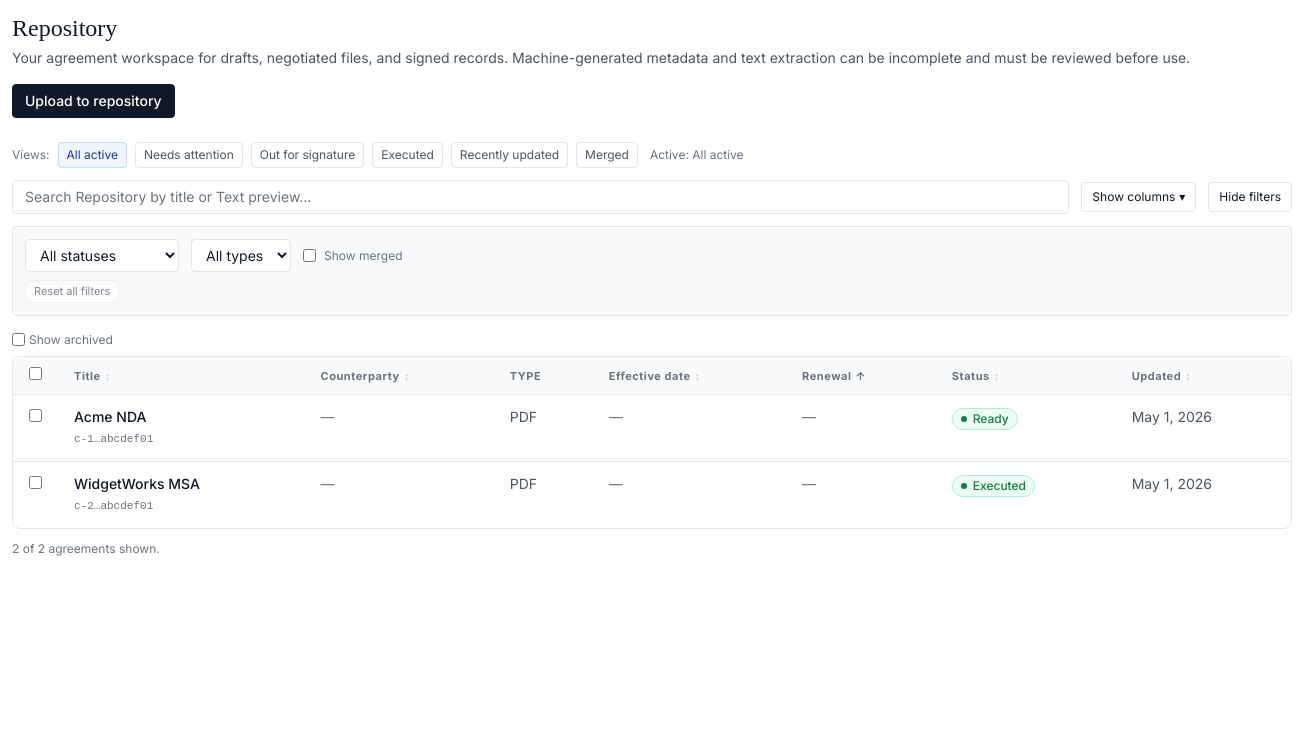
Scenario: ContractsPage (Repository list) › filters the visible list by the selected status
The image size is (1304, 732).
Step 1. Select "Executed" in the dropdown with test id "repository-filter-status" → {"x": 102, "y": 256}, box [25,239,179,272]
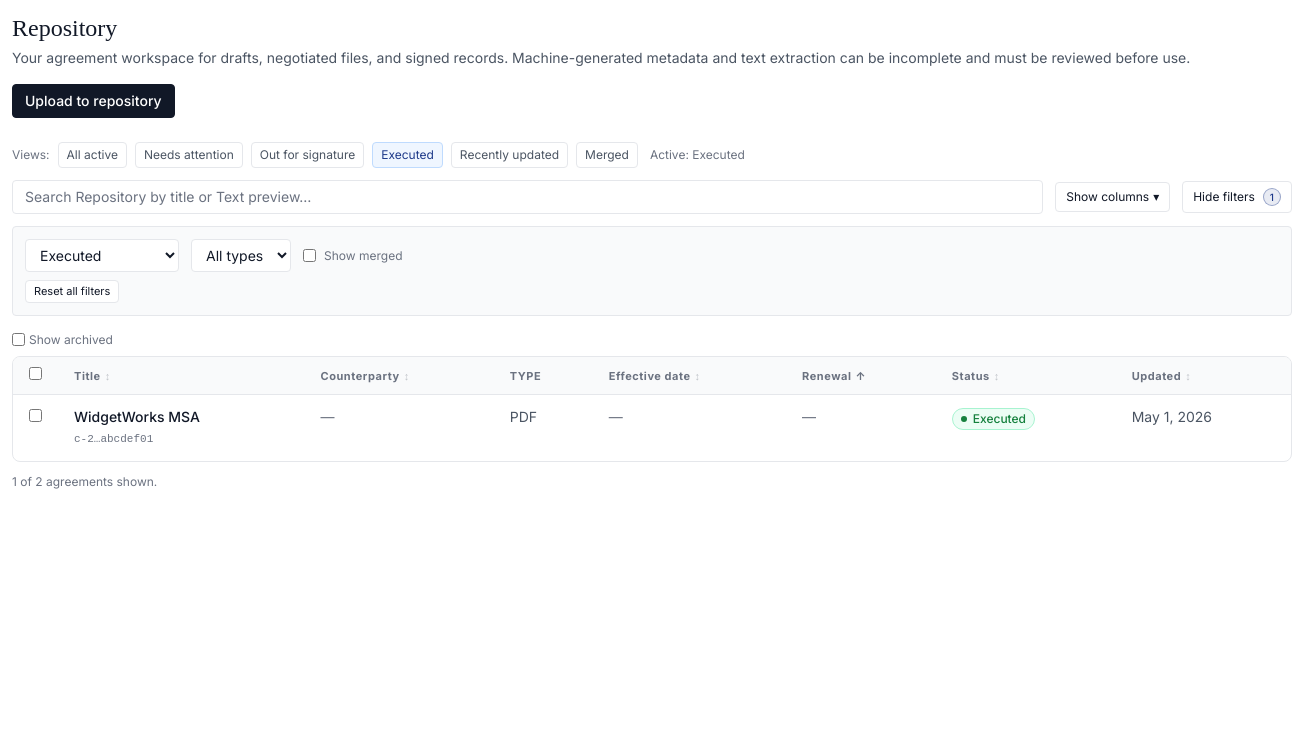
Expected: no links "Acme NDA" are shown
